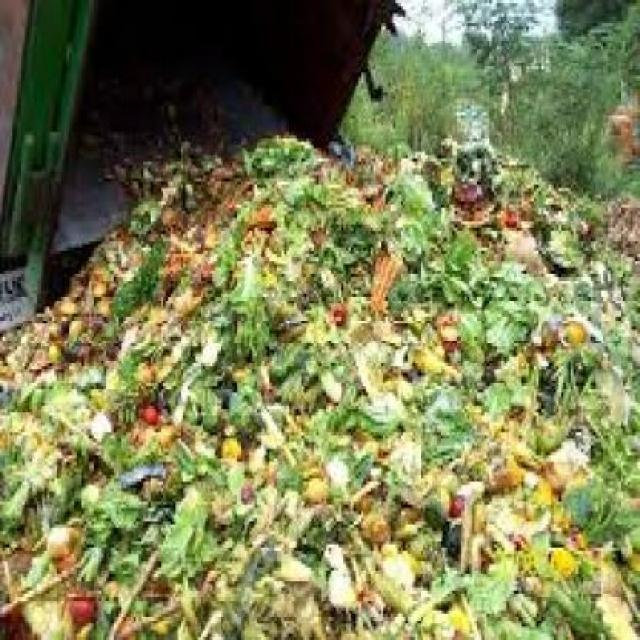garbage: (3, 0, 638, 630)
